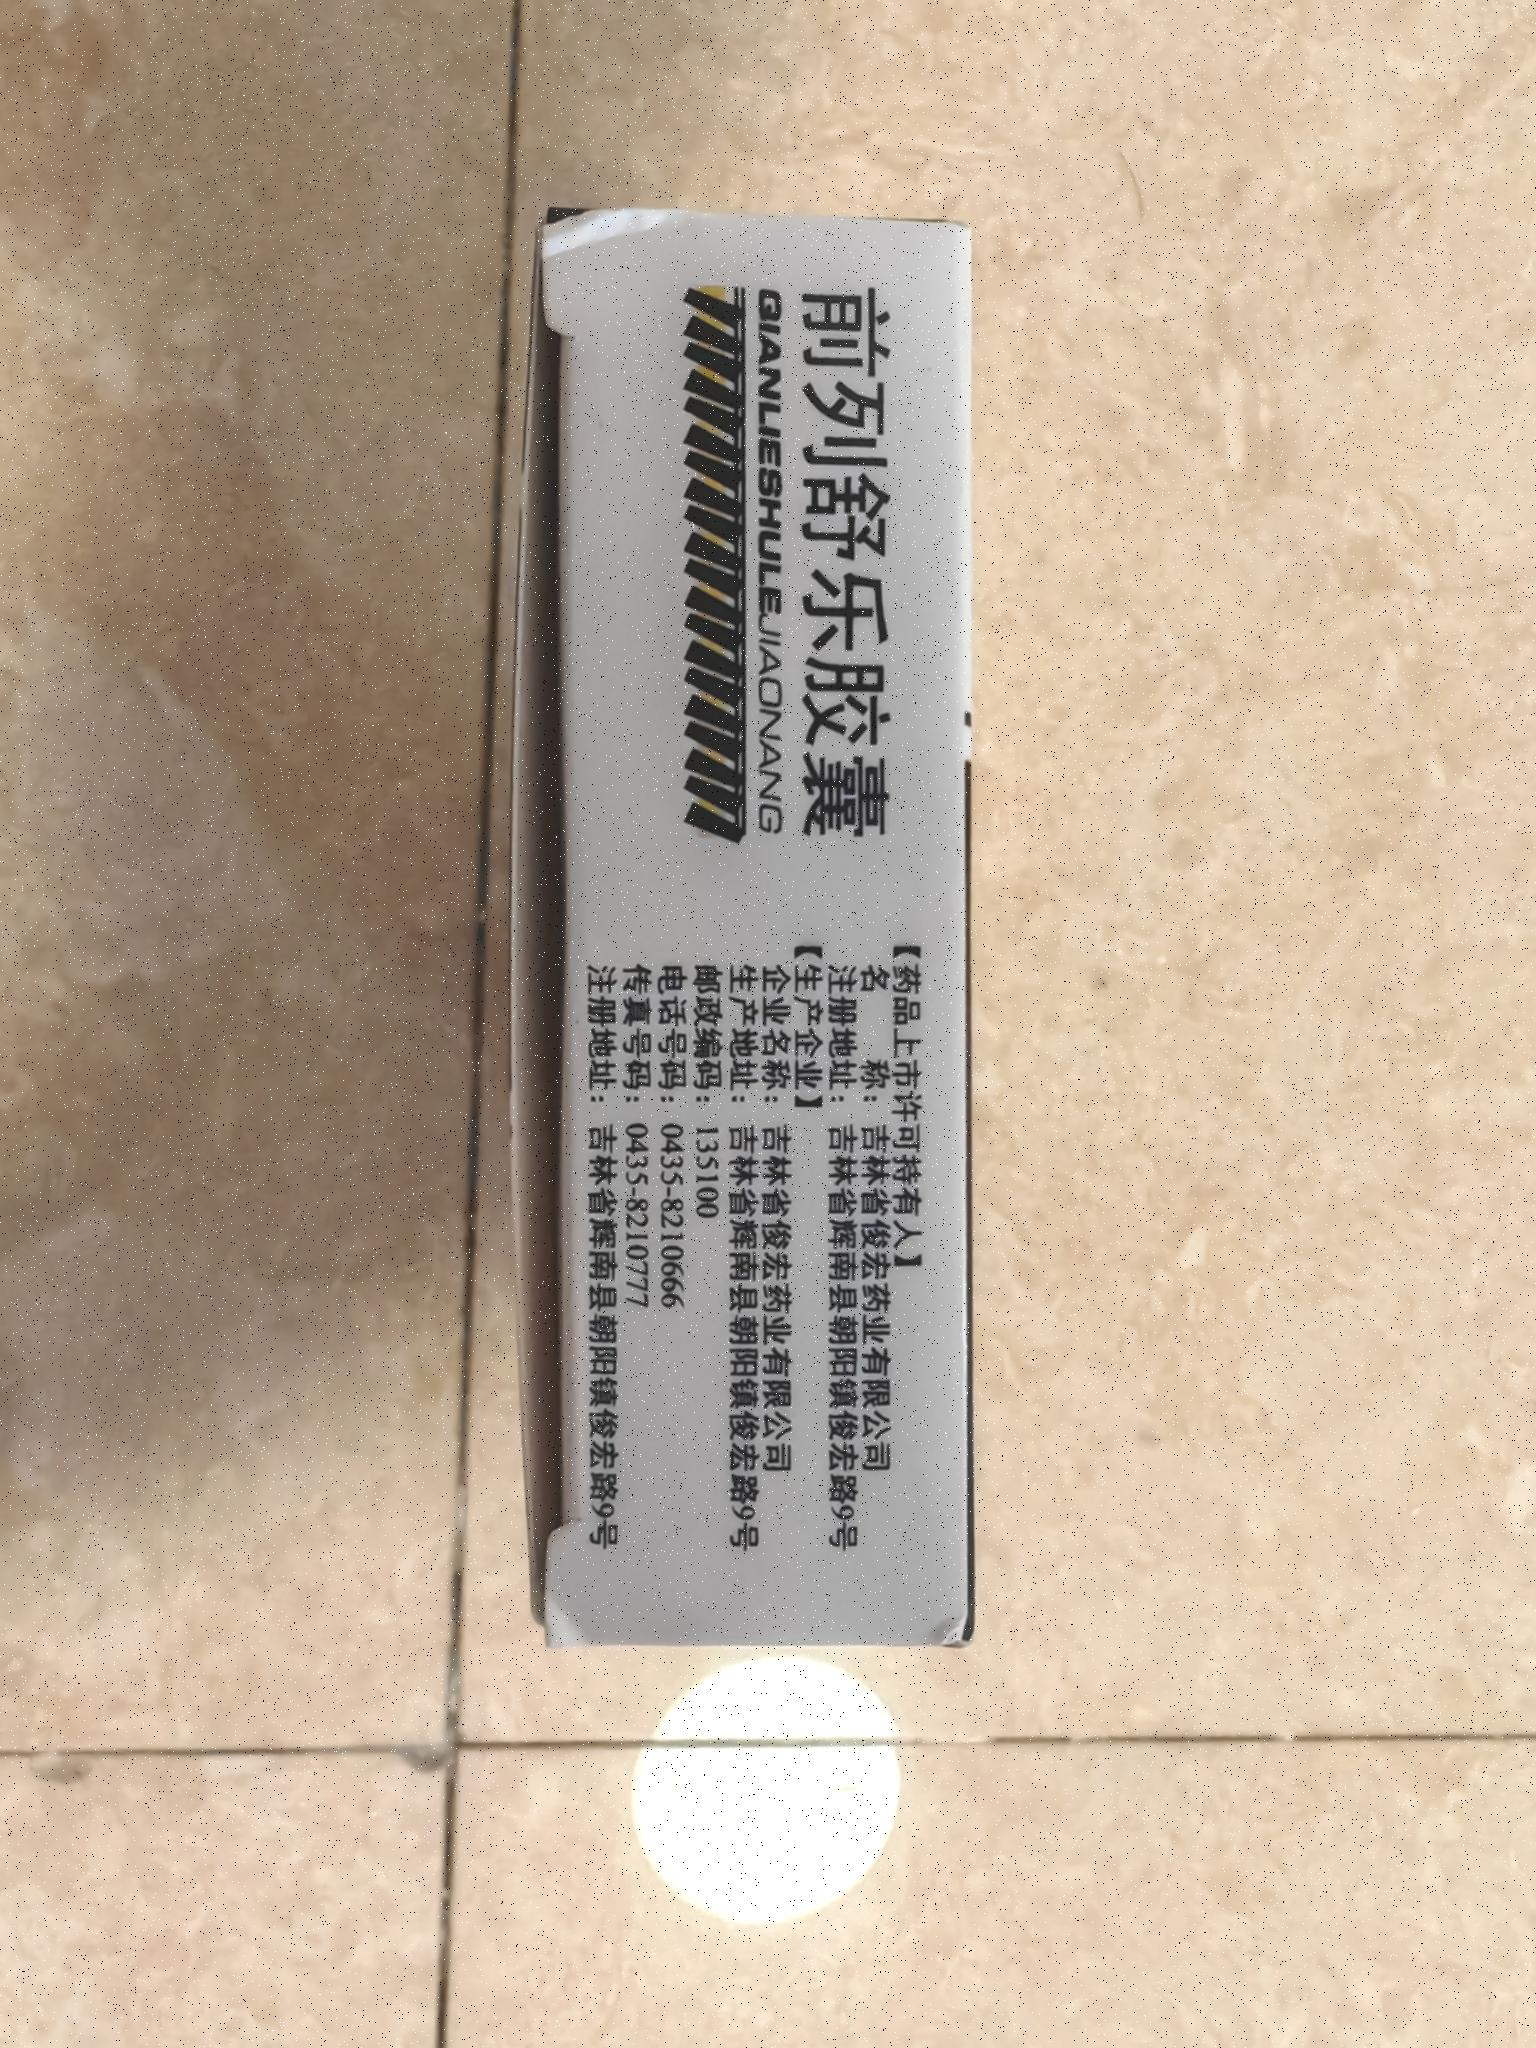Medicine2: (188, 542, 1536, 1029)
